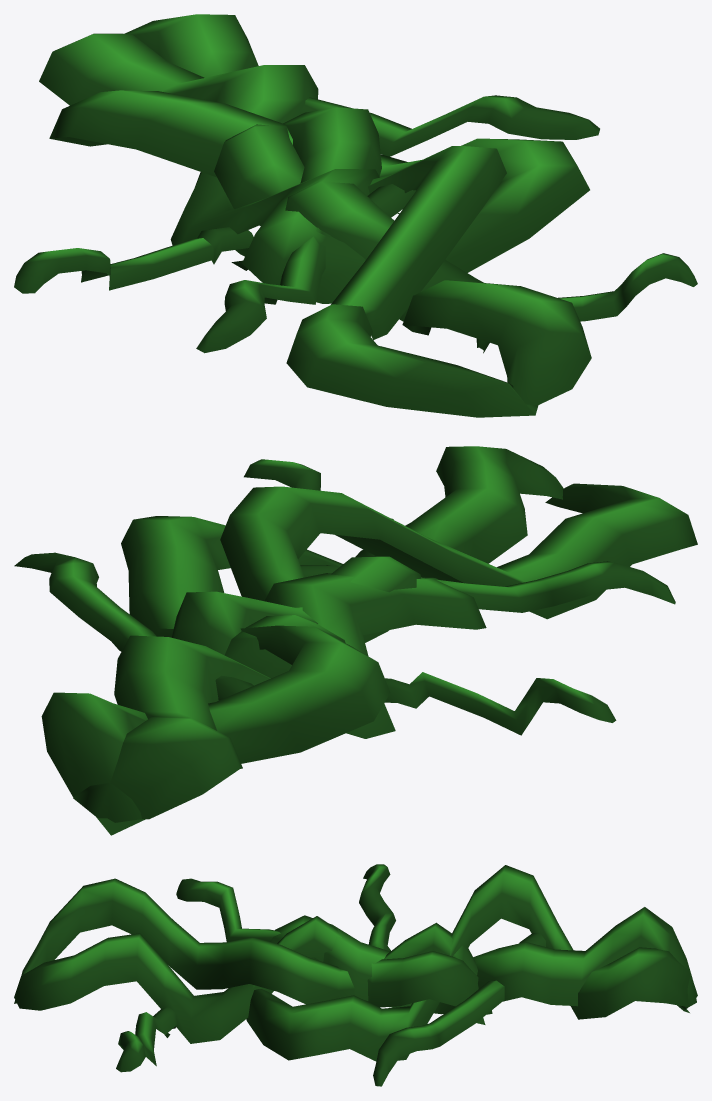
Rendered from vine5.fbx.
The picture shows the model from 3 angles, top to bottom: view 1: azimuth 30°, elevation 25°; view 2: azimuth 150°, elevation 25°; view 3: azimuth 270°, elevation 25°; orthographic projection. The views are drawn at different scales.
Visible parts, largest first — view 1: pCube90; view 2: pCube90; view 3: pCube90.
Boxes of the visible parts, box(x1,y1,x2,y2) form: pCube90: box(14, 14, 697, 417); pCube90: box(14, 446, 697, 835); pCube90: box(14, 864, 697, 1086).
Bounding box in the file's own units: 77.77 × 17.89 × 100.
